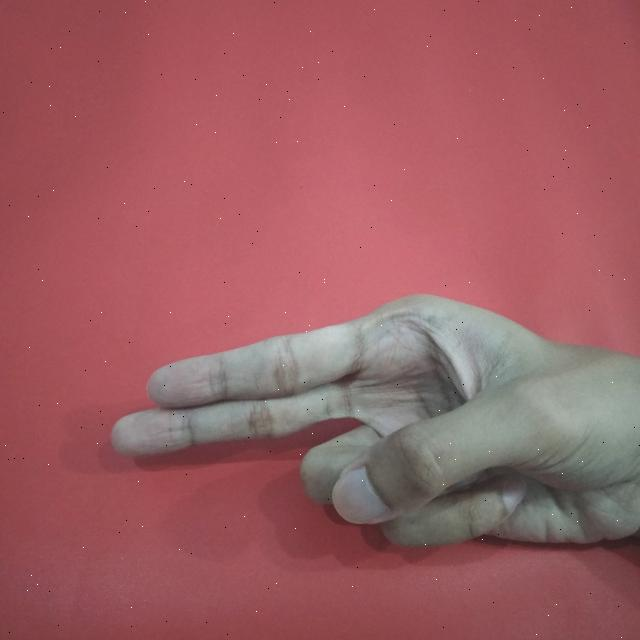H: (97, 284, 640, 562)
